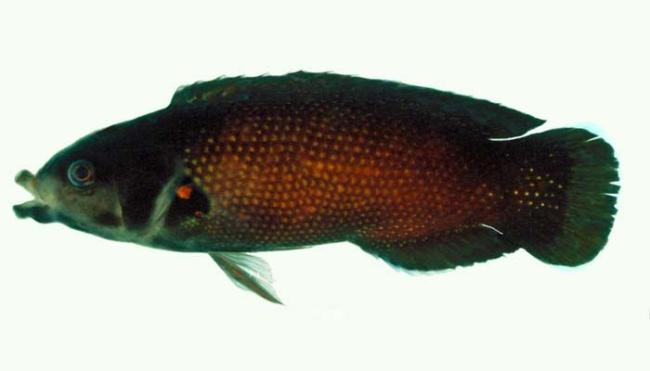fish: (11, 68, 621, 307)
